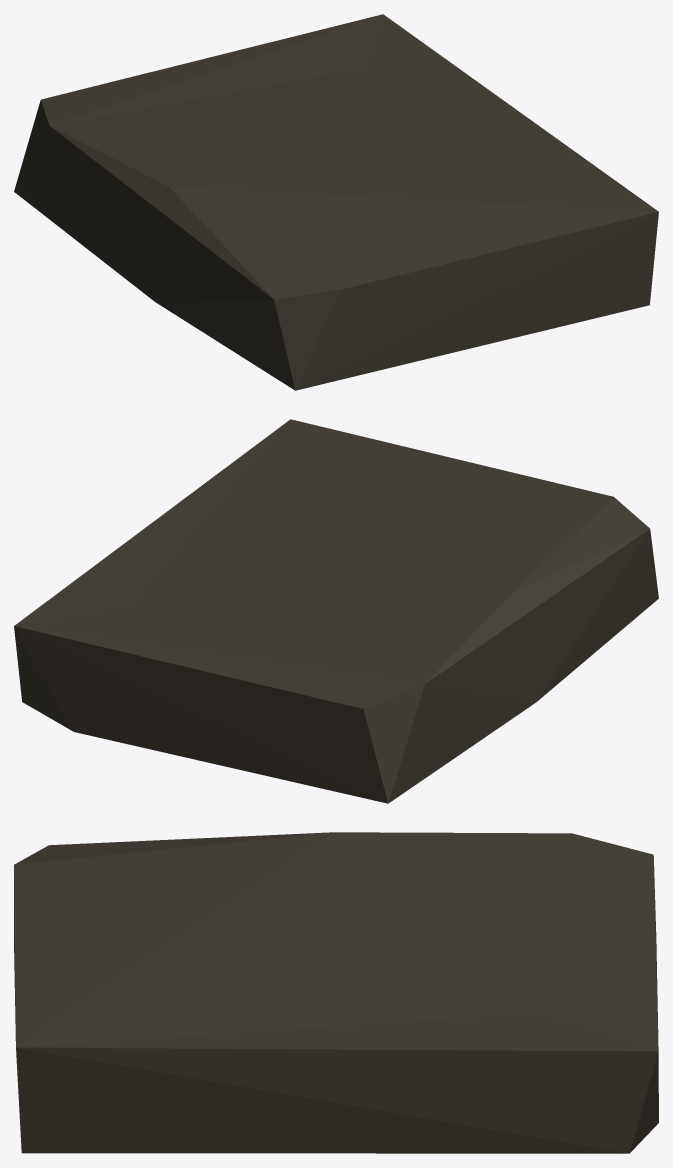
Rendered from Stairs_Single_2.fbx.
3 renders of one model, top to bottom at view 1: azimuth 30°, elevation 25°; view 2: azimuth 150°, elevation 25°; view 3: azimuth 270°, elevation 25°, orthographic. The views are drawn at different scales.
Parts seen in each view (by area): view 1: Group11249; view 2: Group11249; view 3: Group11249.
Boxes of the visible parts, box(x1,y1,x2,y2) form: Group11249: box(14, 14, 658, 390); Group11249: box(14, 419, 658, 803); Group11249: box(14, 832, 658, 1153).
Bounding box in the file's own units: 1.79 × 0.4801 × 2.27.
